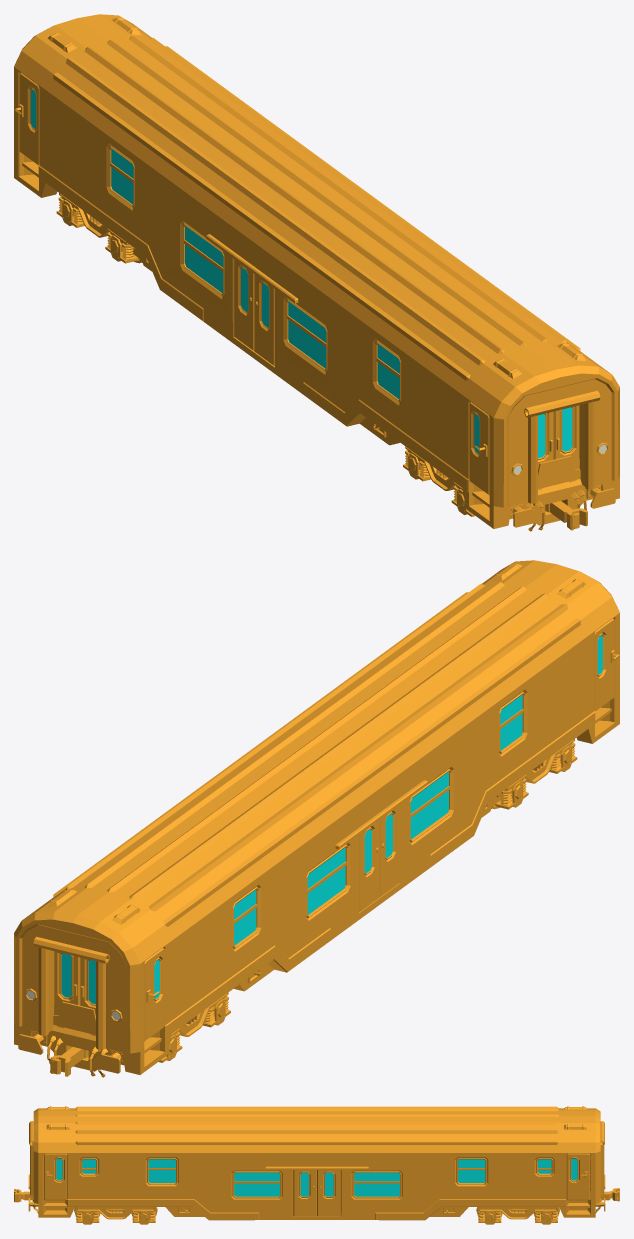
File: SM_Train_Wagon_Travel_B.fbx
The picture shows the model from 3 angles, top to bottom: view 1: azimuth 30°, elevation 25°; view 2: azimuth 150°, elevation 25°; view 3: azimuth 270°, elevation 25°; orthographic projection. The views are drawn at different scales.
Parts seen in each view (by area): view 1: SM_Train_Wagon_Travel_B_Base, SM_Train_Wagon_Travel_B_Base_Chassis_B, SM_Train_Wagon_Travel_B_Base_Chassis_F, SM_Train_Wagon_Travel_B_Base_Joint_F; view 2: SM_Train_Wagon_Travel_B_Base, SM_Train_Wagon_Travel_B_Base_Chassis_F, SM_Train_Wagon_Travel_B_Base_Chassis_B; view 3: SM_Train_Wagon_Travel_B_Base, SM_Train_Wagon_Travel_B_Base_Chassis_F, SM_Train_Wagon_Travel_B_Base_Chassis_B, SM_Train_Wagon_Travel_B_Base_Joint_F, SM_Train_Wagon_Travel_B_Base_Joint_B.
Boxes of the visible parts, x1,y1,x2,y2 form: SM_Train_Wagon_Travel_B_Base: [14, 14, 619, 531]; SM_Train_Wagon_Travel_B_Base_Chassis_B: [56, 193, 138, 263]; SM_Train_Wagon_Travel_B_Base_Chassis_F: [403, 446, 475, 516]; SM_Train_Wagon_Travel_B_Base_Joint_F: [545, 501, 587, 530]; SM_Train_Wagon_Travel_B_Base: [14, 560, 619, 1077]; SM_Train_Wagon_Travel_B_Base_Chassis_F: [495, 739, 577, 809]; SM_Train_Wagon_Travel_B_Base_Chassis_B: [158, 992, 230, 1062]; SM_Train_Wagon_Travel_B_Base: [28, 1106, 605, 1220]; SM_Train_Wagon_Travel_B_Base_Chassis_F: [75, 1207, 155, 1224]; SM_Train_Wagon_Travel_B_Base_Chassis_B: [478, 1207, 558, 1224]; SM_Train_Wagon_Travel_B_Base_Joint_F: [14, 1189, 33, 1202]; SM_Train_Wagon_Travel_B_Base_Joint_B: [600, 1188, 619, 1201].
Size of the model in its own units: 3.32 by 3.91 by 21.47.
